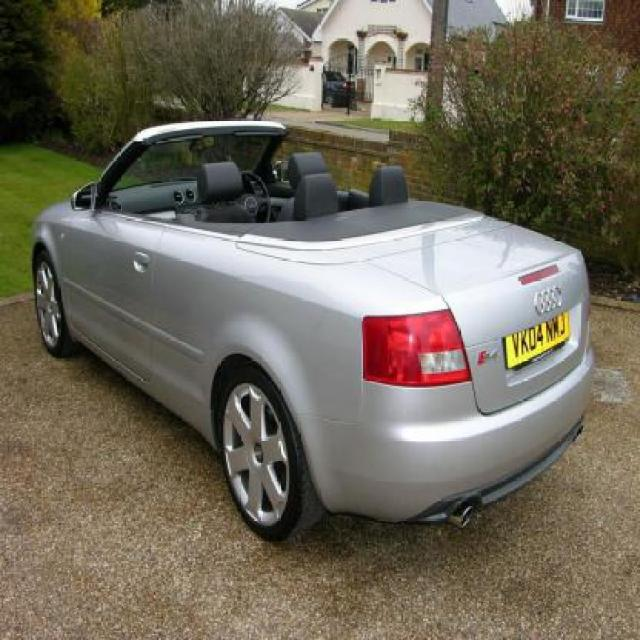License-Plates: (506, 309, 570, 371)
